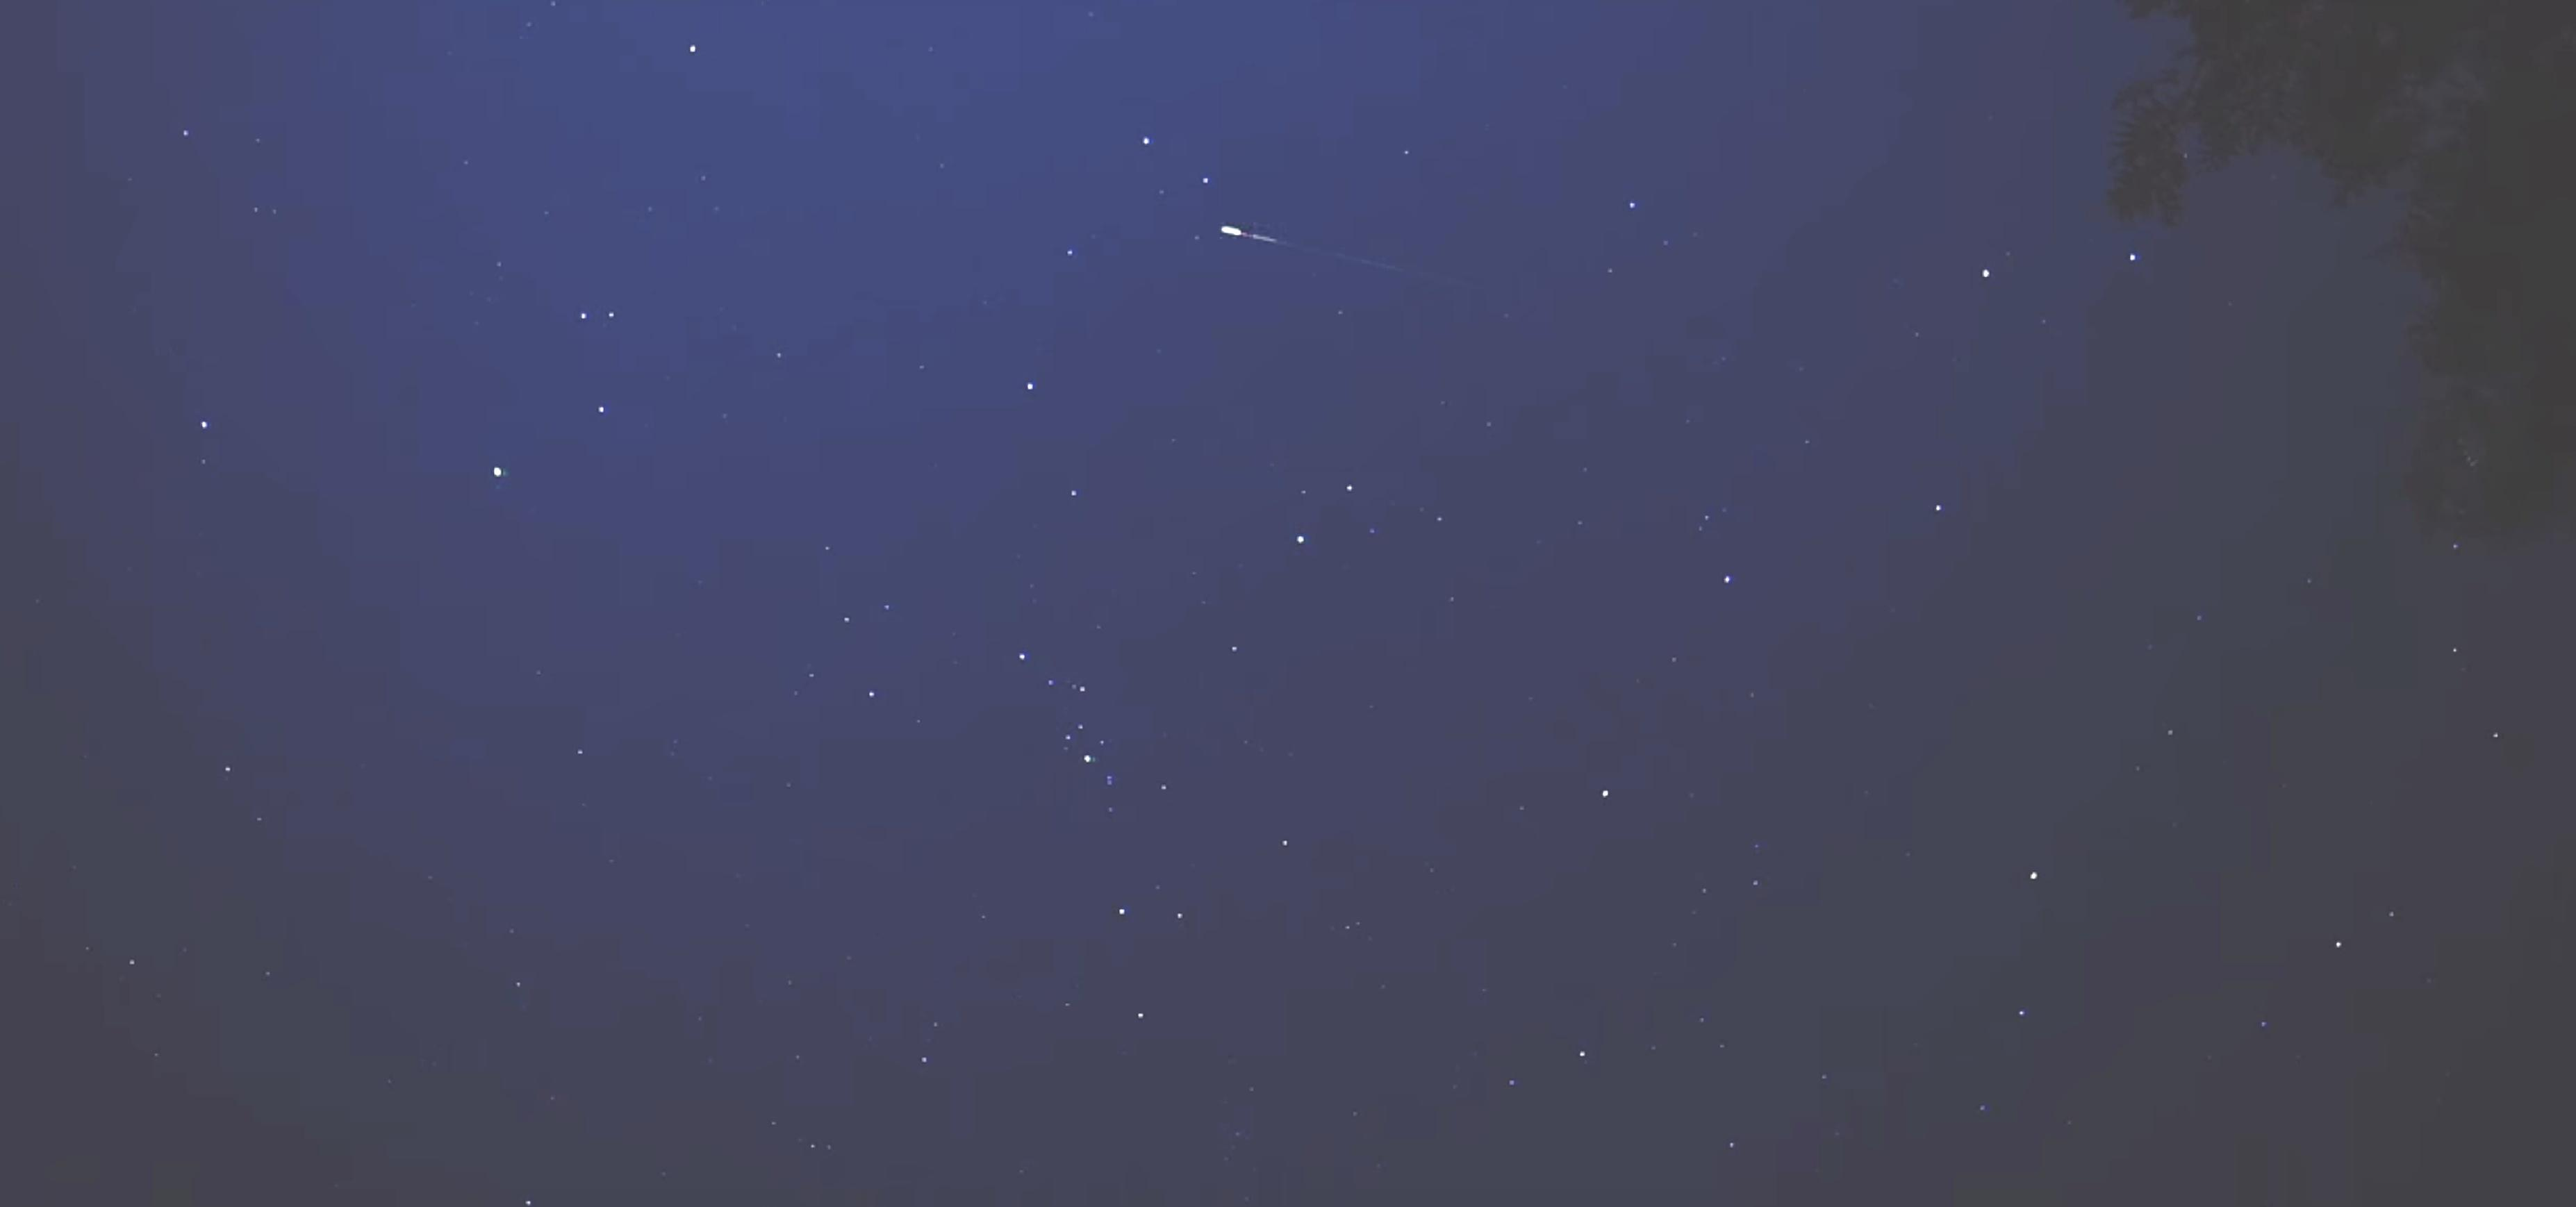meteorite: (1170, 218, 1339, 251)
